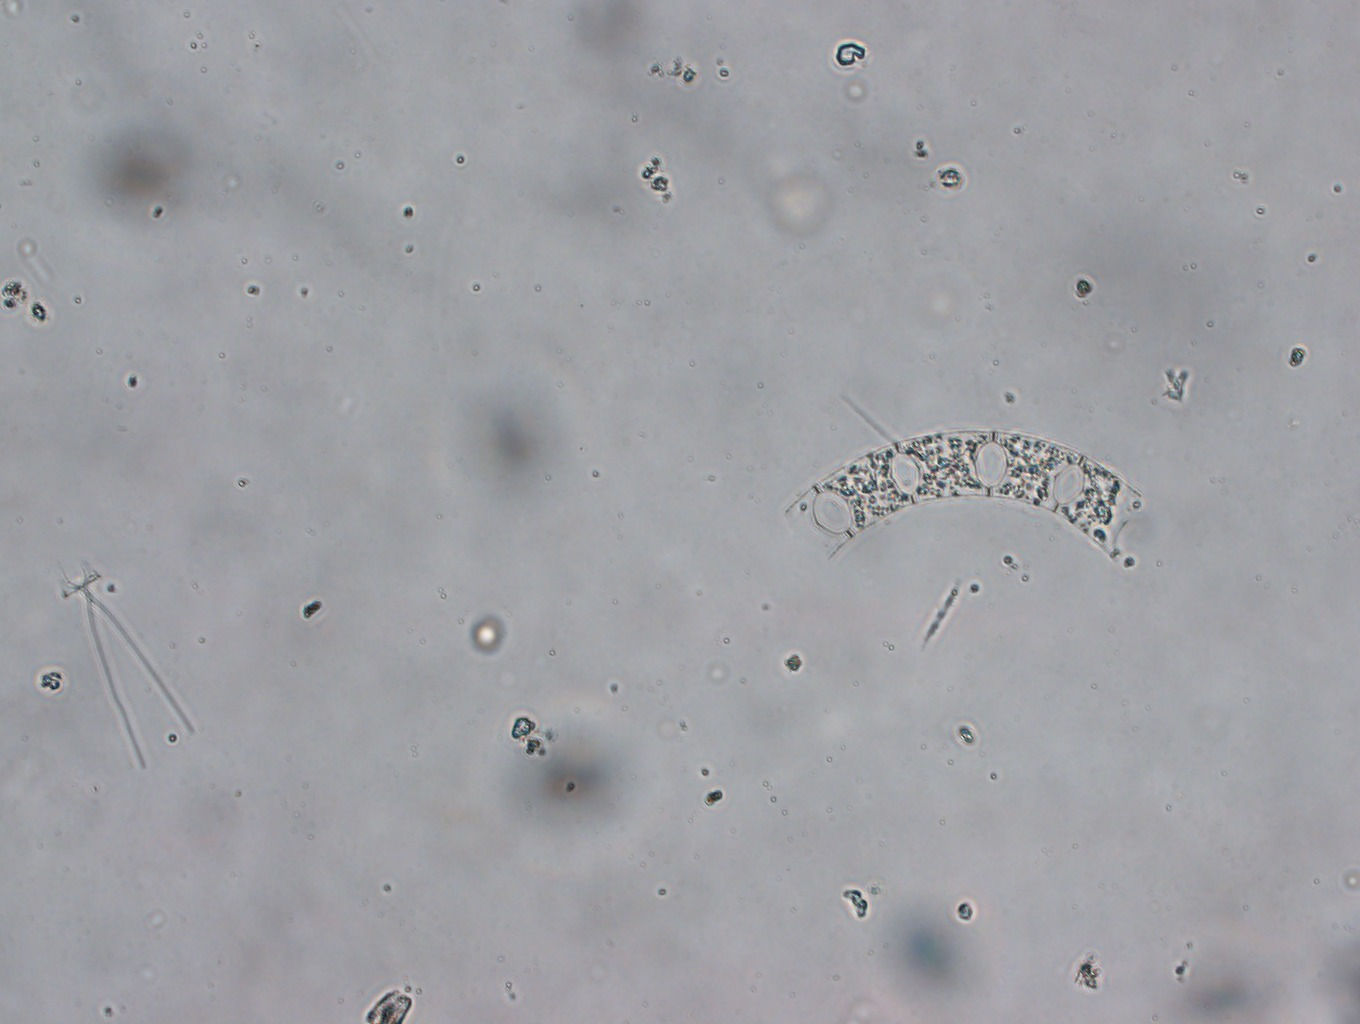eucampia: (783, 429, 1144, 561)
